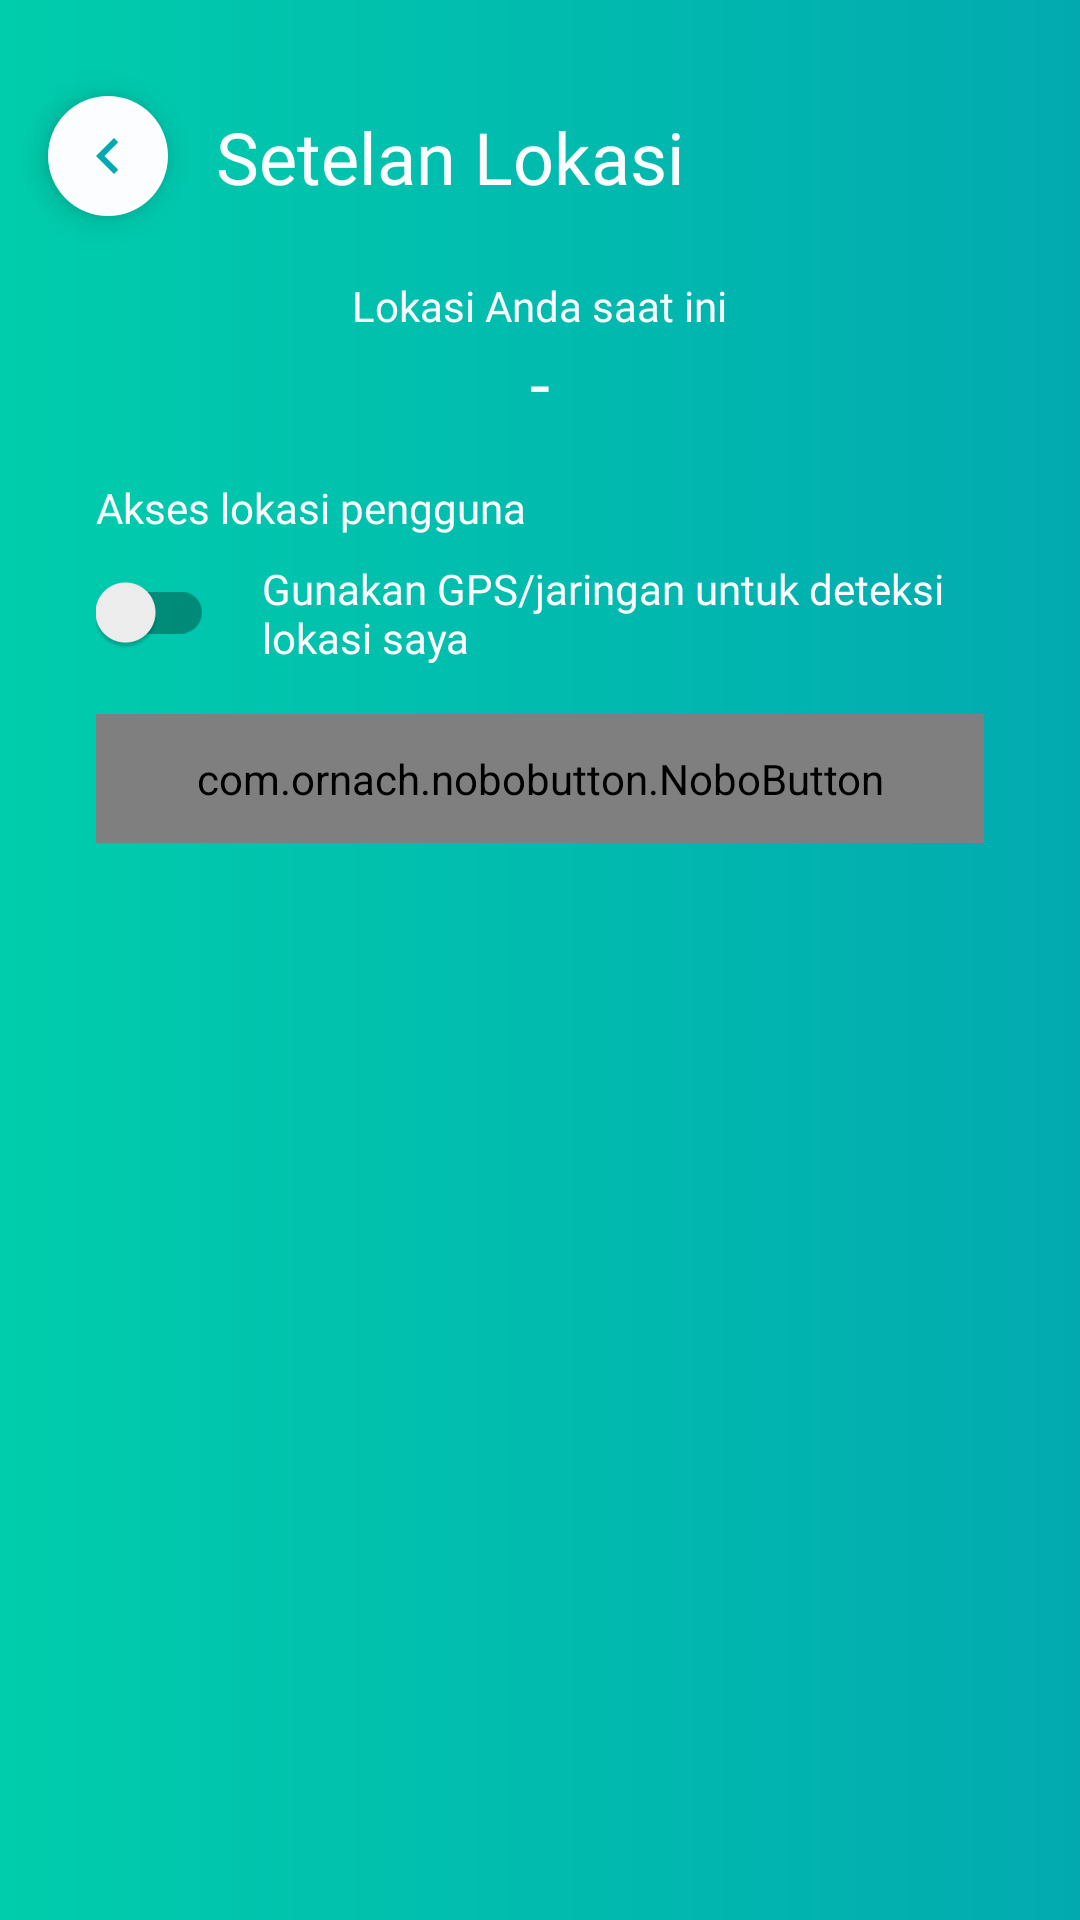

Point at icon controls on the screen. Image size 1080x1920, points as (x=x, y=y).
chevron left cyan: (x=108, y=156)
